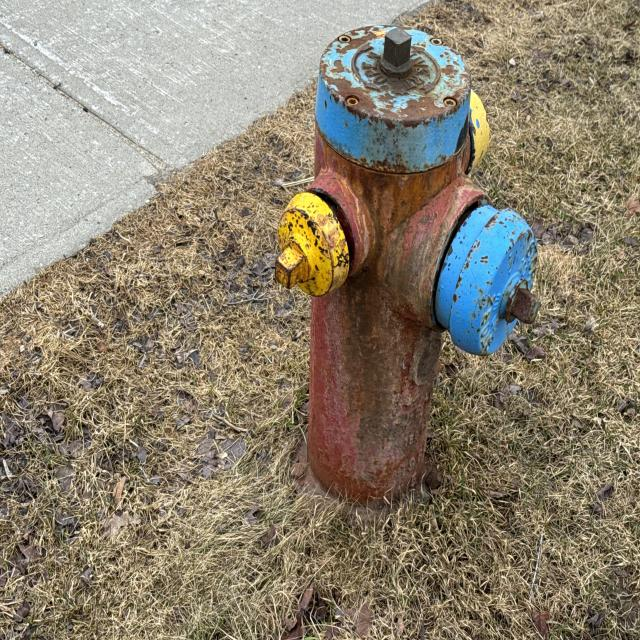Fire hydrant: (273, 24, 542, 528)
